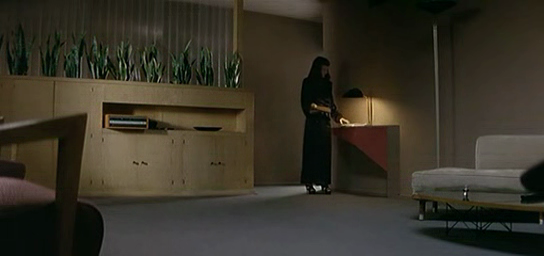els: (1, 1, 544, 256)
face_es: (321, 66, 328, 77)
person: (300, 56, 350, 194)
